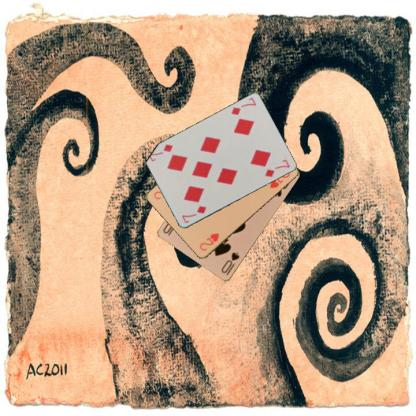10s: (218, 249, 241, 276)
2h: (197, 230, 220, 252)
7d: (179, 203, 208, 225), (228, 94, 257, 116)
